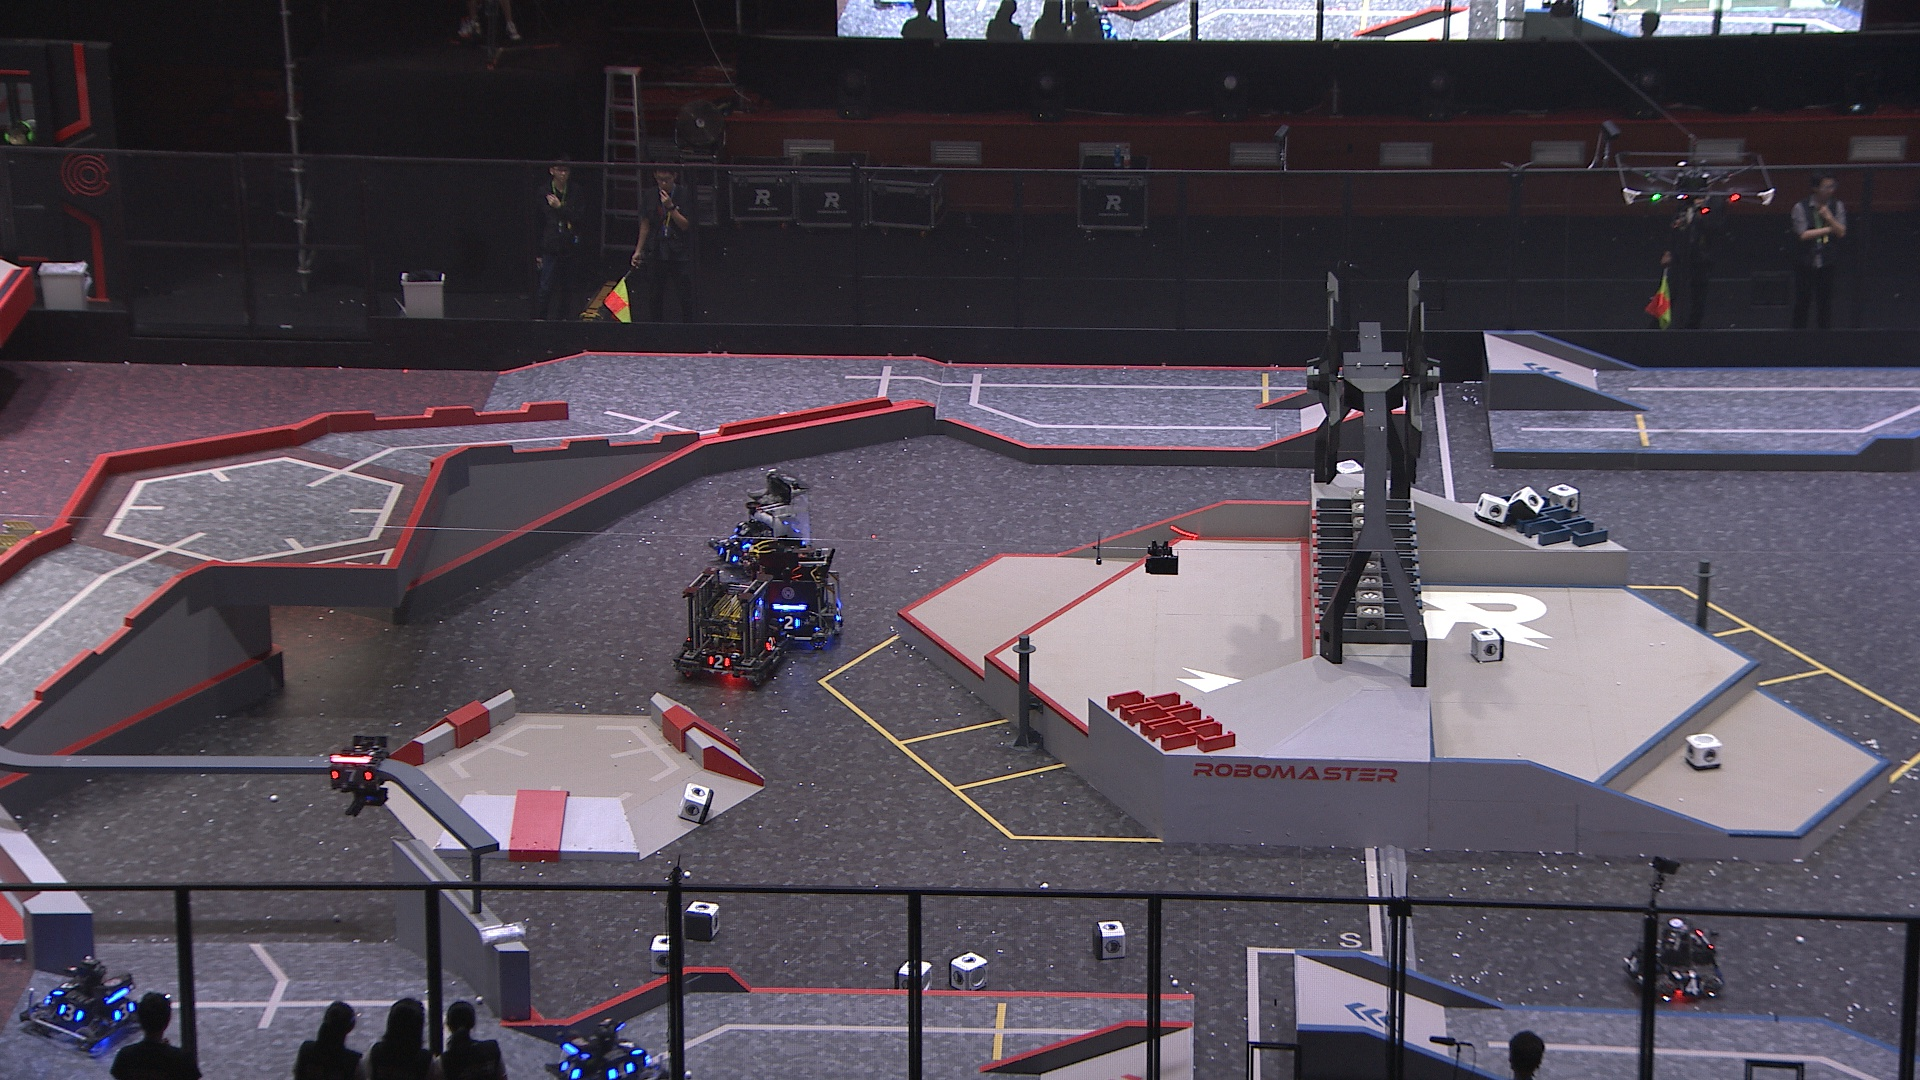armor: (324, 764, 373, 785), (1677, 975, 1708, 1000), (109, 996, 135, 1025), (618, 1034, 645, 1058), (775, 611, 803, 633), (727, 531, 756, 553), (607, 1059, 637, 1079), (713, 542, 740, 564), (556, 1058, 580, 1079), (58, 1002, 83, 1022), (705, 654, 732, 670), (55, 978, 76, 998), (764, 632, 779, 655), (1626, 949, 1640, 975), (832, 603, 845, 626)
car: (673, 560, 796, 688), (16, 955, 149, 1054), (746, 545, 847, 655), (707, 469, 814, 571), (1623, 913, 1727, 1005), (543, 1015, 675, 1080)
ignore: (1069, 1, 1121, 41)
watcher: (320, 731, 394, 814)
